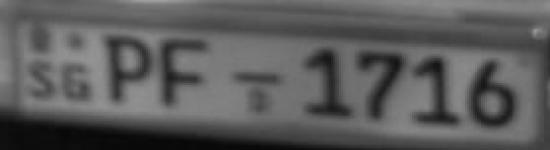-: (230, 66, 283, 89)
1: (297, 43, 356, 120), (408, 51, 464, 131)
6: (463, 53, 525, 134)
7: (356, 45, 407, 125)
F: (158, 32, 220, 110)
G: (60, 58, 96, 102)
P: (103, 31, 156, 104)
S: (23, 56, 57, 100)
